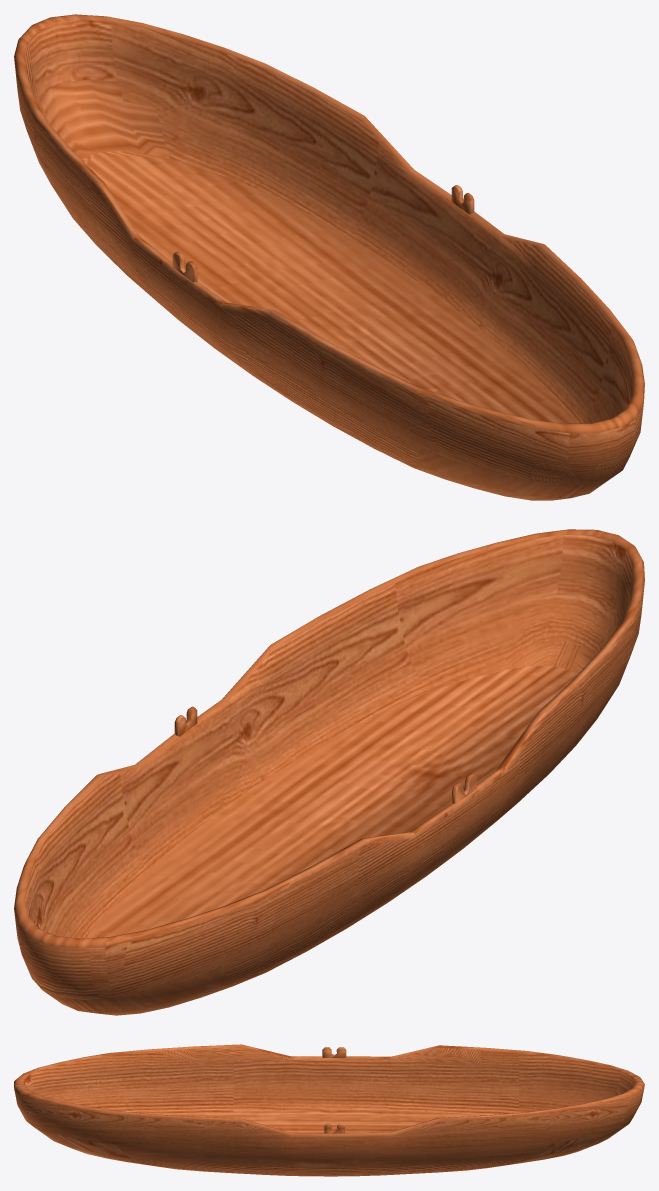
Rendered from boatFinal.fbx.
The picture shows the model from 3 angles, top to bottom: view 1: azimuth 30°, elevation 25°; view 2: azimuth 150°, elevation 25°; view 3: azimuth 270°, elevation 25°; orthographic projection. The views are drawn at different scales.
Parts seen in each view (by area): view 1: Sphere; view 2: Sphere; view 3: Sphere.
Boxes of the visible parts, x1,y1,x2,y2 form: Sphere: (14, 14, 644, 500); Sphere: (14, 529, 644, 1015); Sphere: (14, 1044, 644, 1176).
Size of the model in its own units: 282 by 141 by 954.
